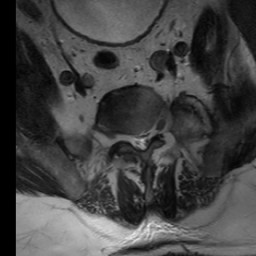CCS_stenosis: (138, 124, 144, 157)
LFS_normal: (149, 114, 157, 145)
LLS_normal: (144, 122, 151, 152)
RFS_normal: (121, 123, 130, 149)
RLS_normal: (130, 124, 138, 154)
